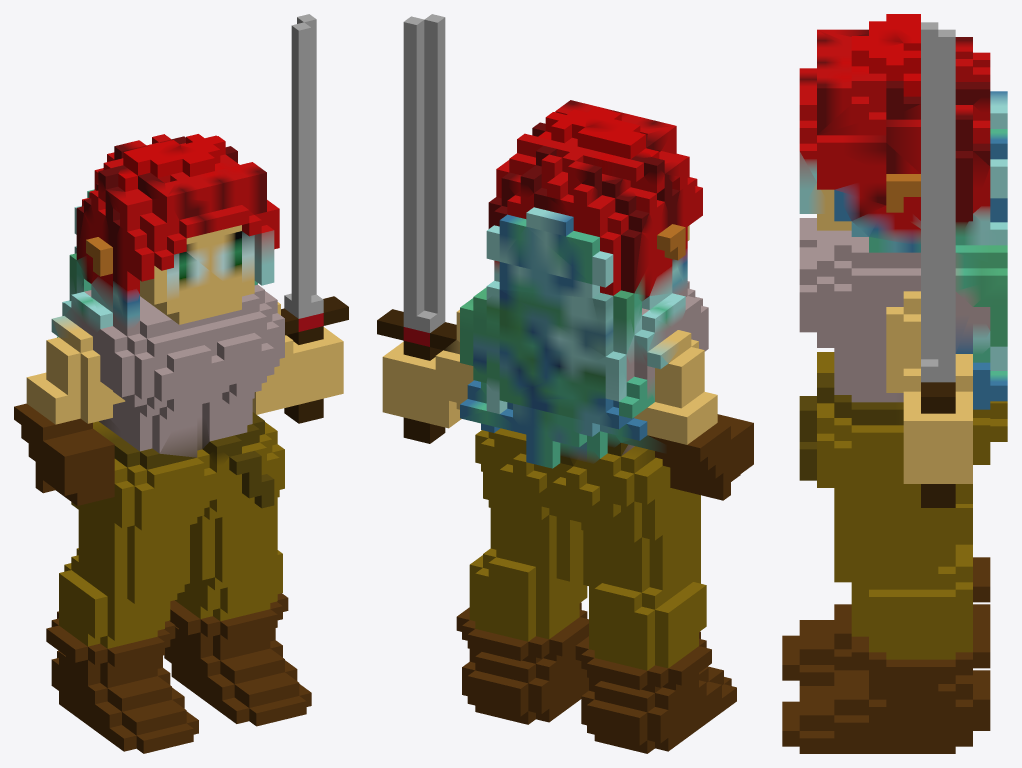
File: femsword.fbx
3 renders of one model, left to right at view 1: azimuth 30°, elevation 25°; view 2: azimuth 150°, elevation 25°; view 3: azimuth 270°, elevation 25°, orthographic. The views are drawn at different scales.
Parts seen in each view (by area): view 1: femSword; view 2: femSword; view 3: femSword.
Part boxes in pixels (x1,y1,x2,y2): femSword: (14,14,348,753); femSword: (377,14,753,753); femSword: (782,14,1007,753).
Size of the model in its own units: 250 by 480 by 130.
